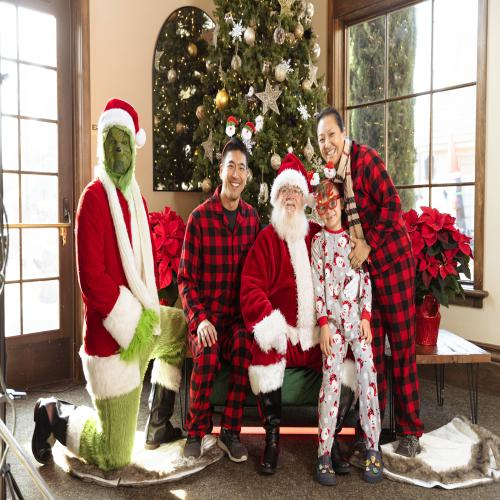Santa: (239, 150, 325, 475), (306, 168, 321, 188), (322, 160, 336, 179)
